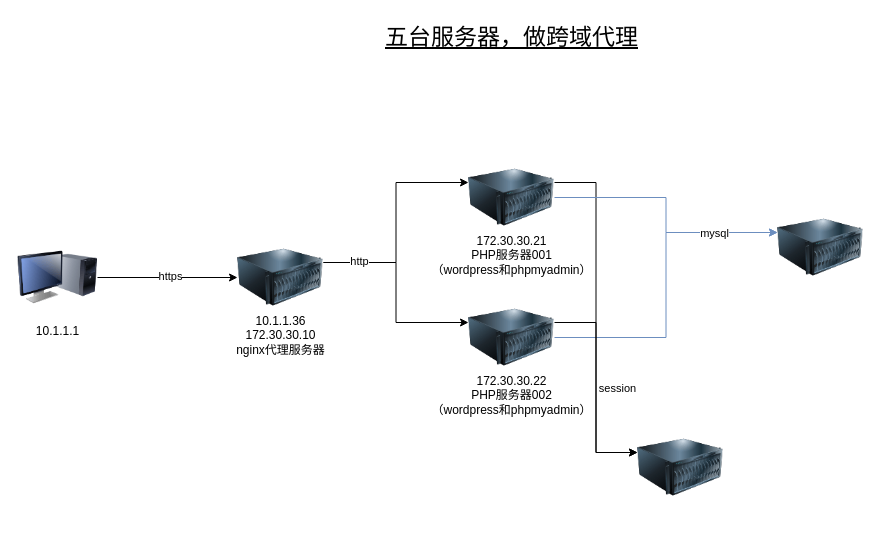
Some shapes in this 880 by 550 pixel diagram are drawn without their labels. The shapes that lost their labels are listed below. From the top down, each one's centre as x and y in pixels, then its label:
At point 820,247: "172.30.30.28 mariadb服务器".
At point 680,467: "172.30.30.29 redis服务器".
